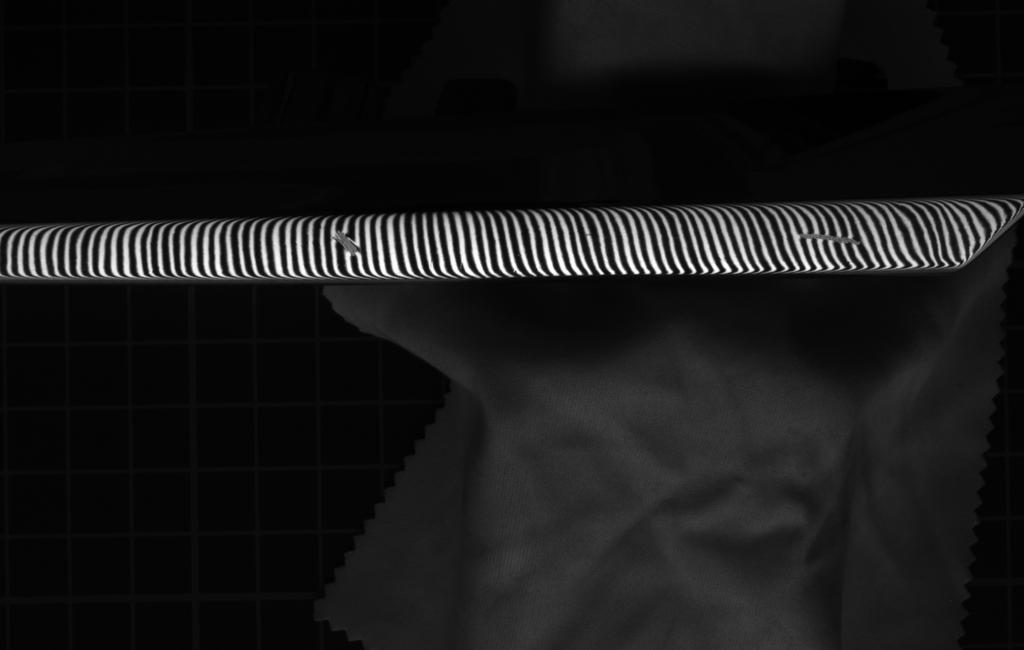Scratch: (794, 229, 869, 250), (328, 226, 369, 262)
